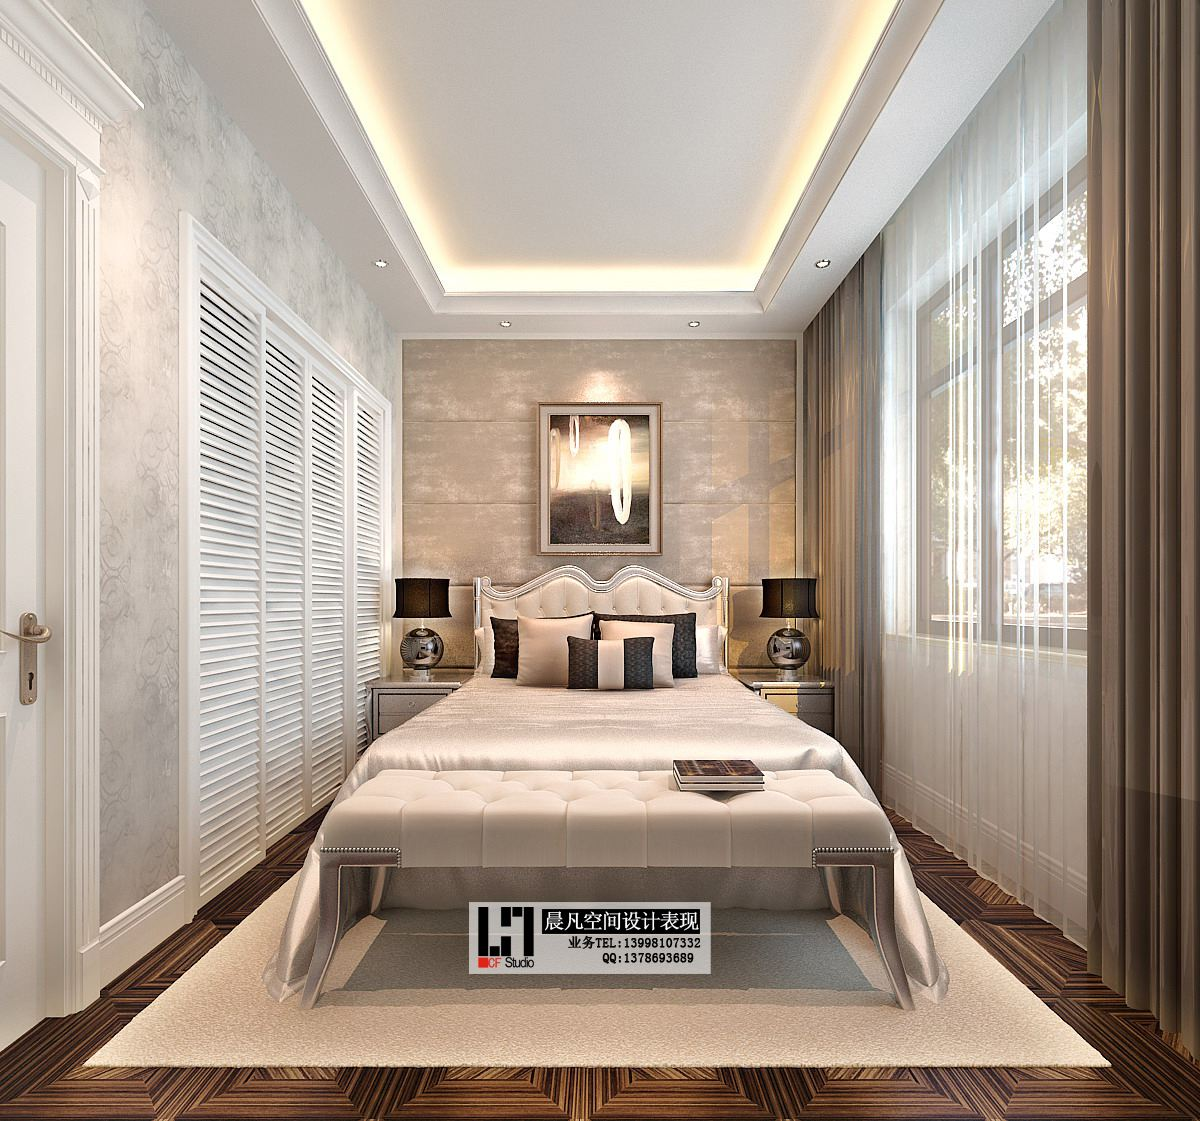床: (320, 678, 887, 999)
枕头: (475, 611, 711, 699)
灯: (382, 570, 450, 683), (752, 573, 813, 676), (486, 313, 518, 335), (676, 315, 702, 334), (373, 254, 392, 277), (800, 258, 822, 276)
